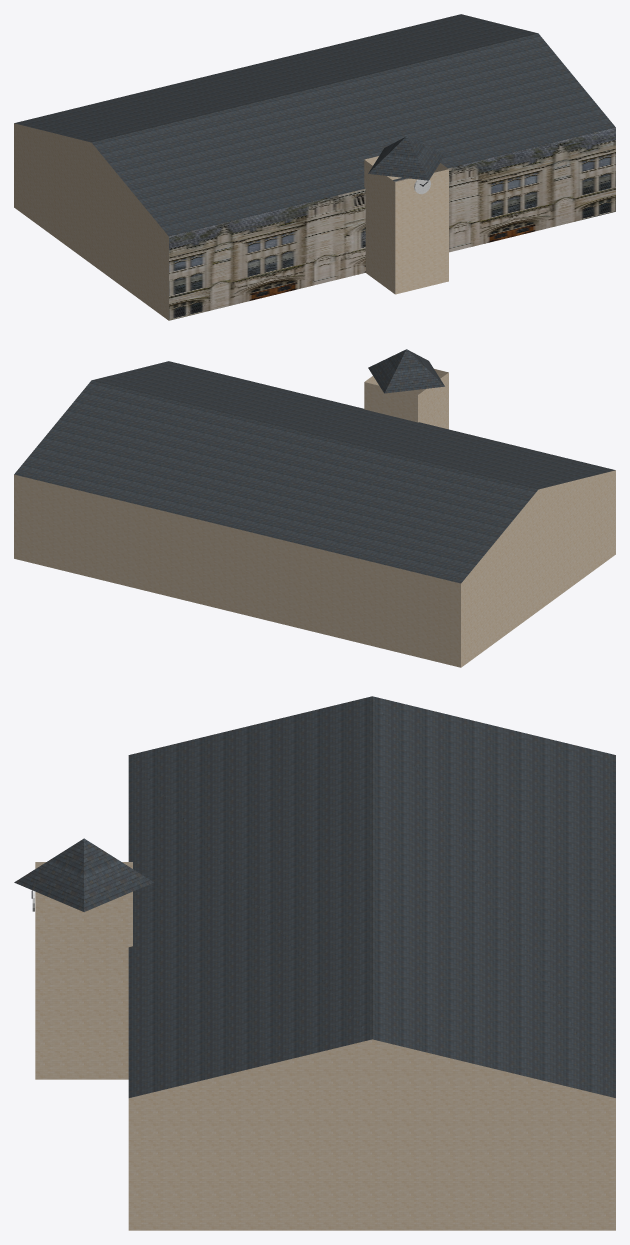
File: university-hall_lod0.gltf
3 views of the same model, one above another, from view 1: azimuth 30°, elevation 25°; view 2: azimuth 150°, elevation 25°; view 3: azimuth 270°, elevation 25° (orthographic). The views are drawn at different scales.
Visible parts, largest first — view 1: university-hall_roof, university-hall_front, university-hall_nave, university-hall_tower, university-hall_gable_ends, university-hall_spire; view 2: university-hall_roof, university-hall_nave, university-hall_gable_ends, university-hall_tower, university-hall_spire; view 3: university-hall_roof, university-hall_nave, university-hall_tower, university-hall_gable_ends, university-hall_spire.
Boxes of the visible parts, x1=… form: university-hall_roof: x1=14, y1=14, x2=615, y2=236; university-hall_front: x1=169, y1=127, x2=615, y2=320; university-hall_nave: x1=14, y1=123, x2=168, y2=320; university-hall_tower: x1=364, y1=156, x2=448, y2=294; university-hall_gable_ends: x1=14, y1=123, x2=167, y2=235; university-hall_spire: x1=368, y1=136, x2=444, y2=180; university-hall_roof: x1=14, y1=361, x2=615, y2=583; university-hall_nave: x1=14, y1=470, x2=615, y2=667; university-hall_gable_ends: x1=462, y1=470, x2=615, y2=582; university-hall_tower: x1=364, y1=369, x2=448, y2=429; university-hall_spire: x1=368, y1=349, x2=444, y2=393; university-hall_roof: x1=128, y1=696, x2=615, y2=1097; university-hall_nave: x1=128, y1=1098, x2=615, y2=1230; university-hall_tower: x1=35, y1=862, x2=132, y2=1079; university-hall_gable_ends: x1=129, y1=1039, x2=615, y2=1098; university-hall_spire: x1=14, y1=838, x2=153, y2=911.
Size of the model in its own units: 100 by 30 by 74.14.
